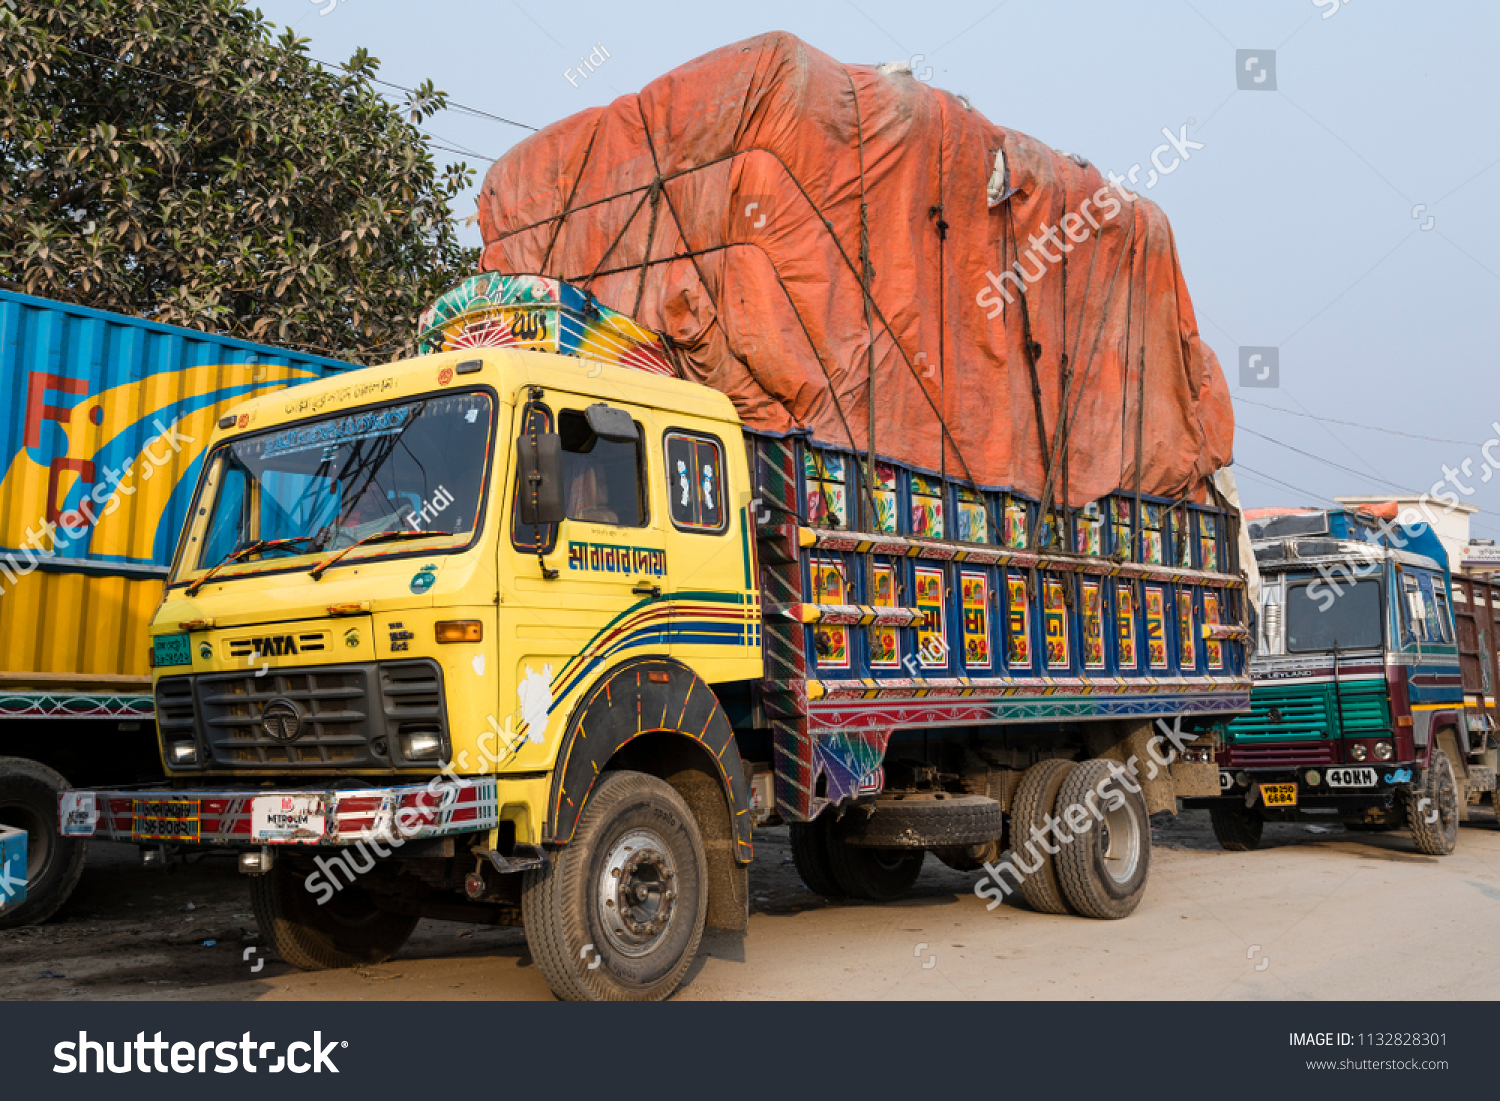wheel: (521, 764, 734, 998), (1010, 743, 1159, 916), (1408, 743, 1473, 860)
